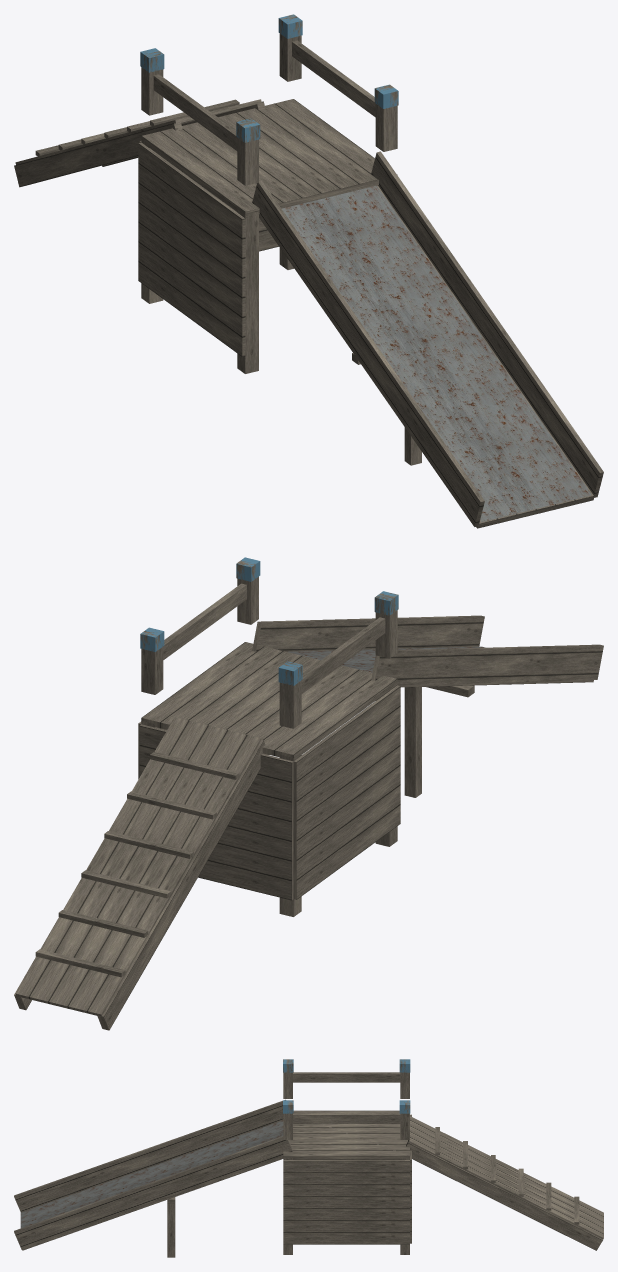
The model's file is playground_ice_slide_lod1_web.glb.
3 views of the same model, one above another, from view 1: azimuth 30°, elevation 25°; view 2: azimuth 150°, elevation 25°; view 3: azimuth 270°, elevation 25° (orthographic). The views are drawn at different scales.
Parts seen in each view (by area): view 1: IceSlide_Mesh; view 2: IceSlide_Mesh; view 3: IceSlide_Mesh.
Part boxes in pixels (left/top/right/bottom): IceSlide_Mesh: left=14, top=14, right=603, bottom=528; IceSlide_Mesh: left=14, top=557, right=603, bottom=1030; IceSlide_Mesh: left=14, top=1059, right=603, bottom=1257.
Bounding box in the file's own units: 1.15 × 1.97 × 6.06.
3 materials, 3 textured.
